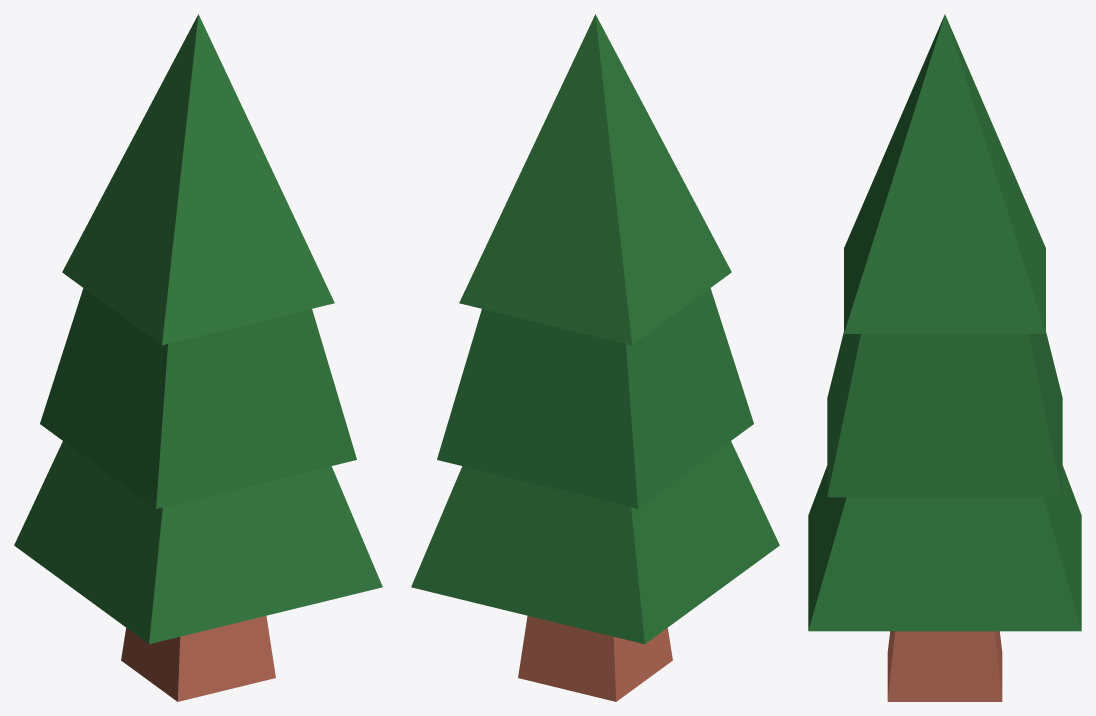
The model's file is tree_pineSmallD.glb.
3 views of the same model, side by side, from view 1: azimuth 30°, elevation 25°; view 2: azimuth 150°, elevation 25°; view 3: azimuth 270°, elevation 25° (orthographic).
Parts seen in each view (by area): view 1: tree_pineSmallD; view 2: tree_pineSmallD; view 3: tree_pineSmallD.
Boxes of the visible parts, x1,y1,x2,y2 form: tree_pineSmallD: (14,14,382,701); tree_pineSmallD: (411,14,779,701); tree_pineSmallD: (808,14,1081,701).
Size of the model in its own units: 0.357 by 0.9556 by 0.357.
